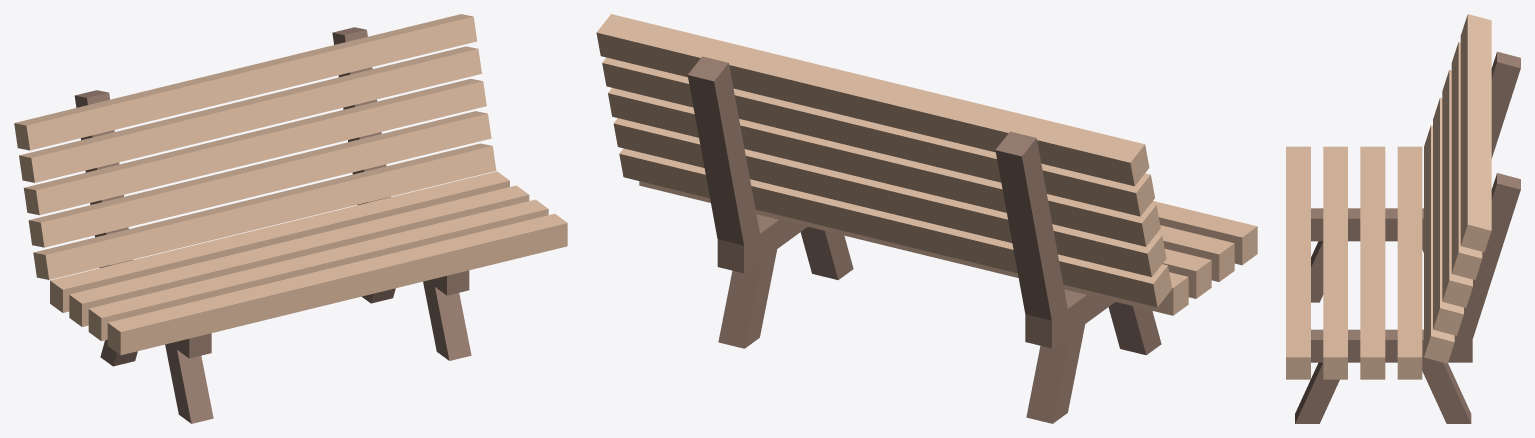
File: Bench.fbx
The picture shows the model from 3 angles, left to right: view 1: azimuth 30°, elevation 25°; view 2: azimuth 150°, elevation 25°; view 3: azimuth 270°, elevation 25°; orthographic projection. The views are drawn at different scales.
Visible parts, largest first — view 1: bench; view 2: bench; view 3: bench.
Boxes of the visible parts, <box> form: bench: <box>14,14,567,423</box>; bench: <box>596,14,1257,423</box>; bench: <box>1286,14,1520,423</box>.
Bounding box in the file's own units: 154 × 82.86 × 72.7.
